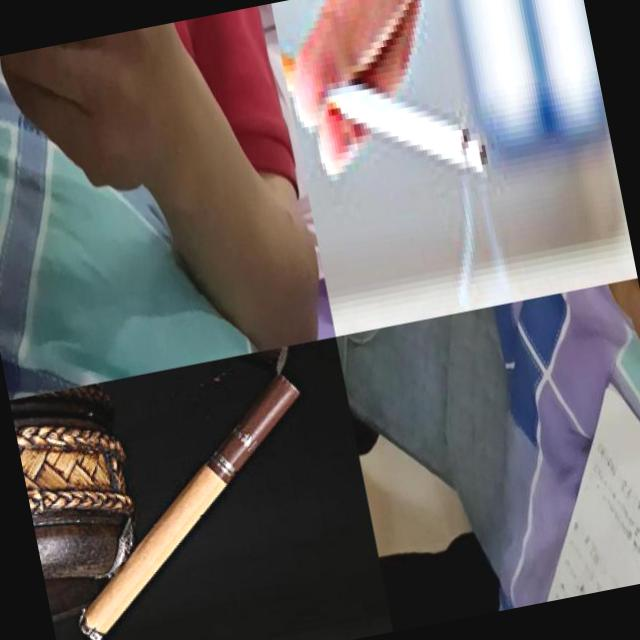cigarette: (40, 373, 339, 640), (280, 17, 491, 208)
